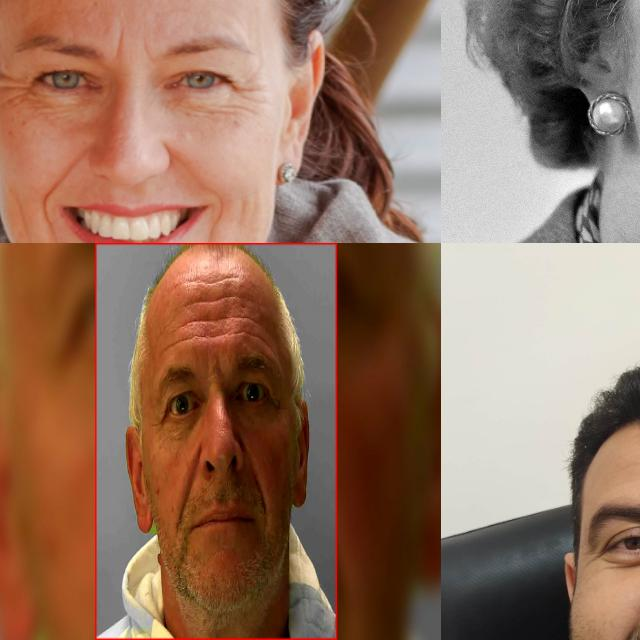crows_feet: (232, 79, 260, 117), (0, 68, 29, 101), (586, 542, 608, 576), (156, 407, 172, 428)
forehead: (178, 309, 245, 343), (188, 277, 242, 315), (252, 326, 270, 356), (160, 337, 176, 358)
frown_line: (109, 27, 125, 63), (138, 37, 152, 67)
gummy_smile: (40, 147, 90, 196), (252, 464, 270, 516), (177, 469, 191, 517), (628, 587, 640, 640), (197, 174, 221, 200)
sad_smile: (199, 203, 221, 243), (46, 220, 68, 243)
